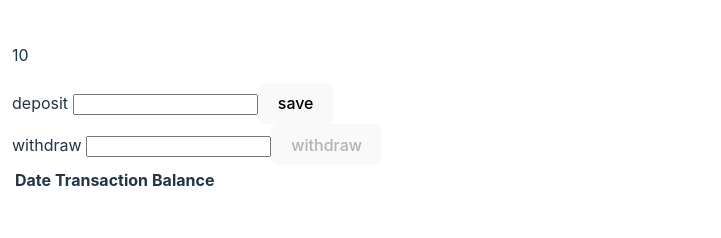
Test: deposit money › should deposit money
In the number field labelled "deposit": [165, 105] box [73,94,258,115], type "10"
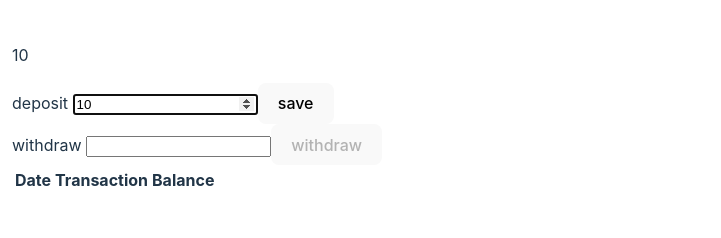
Click the button "save": [296, 103] box [258,83,334,124]
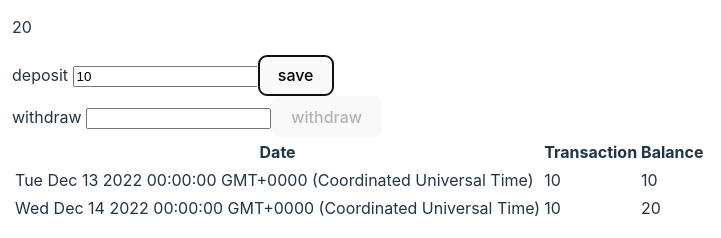
Now the message reads "20", box [12,17,32,37]
Now the 1st cell "10" is shown, box [543,167,638,193]
Now the 2nd cell "10" is shown, box [640,167,704,193]
